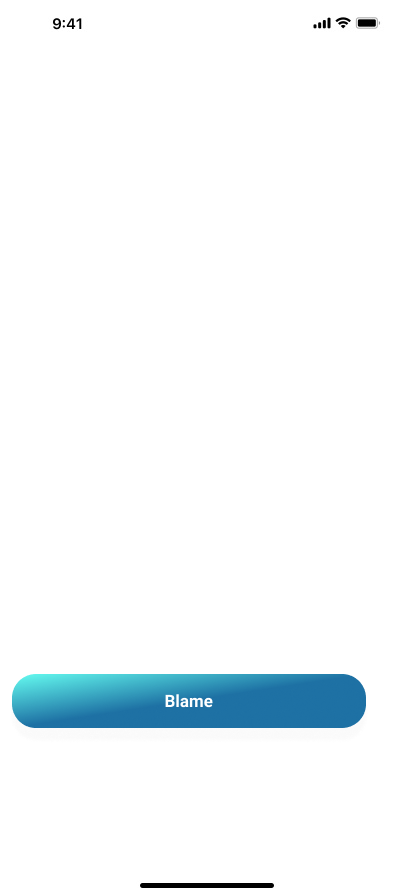Buttons: (8, 674, 374, 744)
Home Indicator: (0, 862, 414, 896)
Status Bar: (0, 0, 414, 44)
